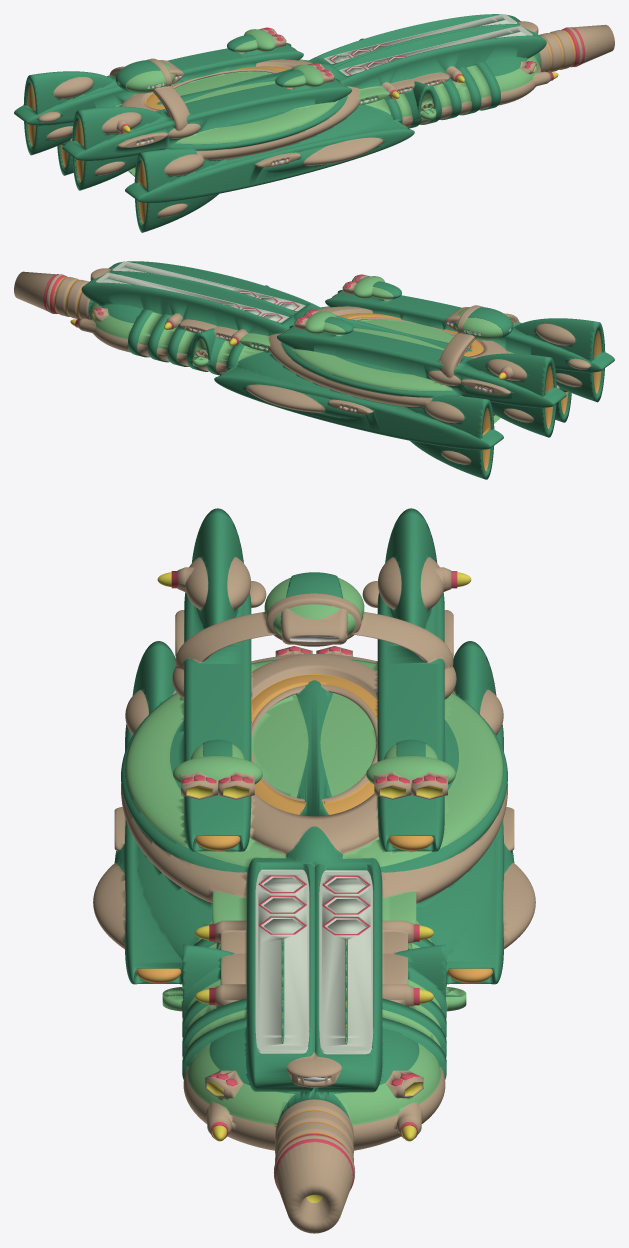
Rendered from kre-boss.glb.
3 views of the same model, one above another, from view 1: azimuth 30°, elevation 25°; view 2: azimuth 150°, elevation 25°; view 3: azimuth 270°, elevation 25° (orthographic). The views are drawn at different scales.
Visible parts, largest first — view 1: Boss / Game Secret current hull - authored COLOR_0 regions; view 2: Boss / Game Secret current hull - authored COLOR_0 regions; view 3: Boss / Game Secret current hull - authored COLOR_0 regions.
Part boxes in pixels (box(x1,y1,x2,y2)): Boss / Game Secret current hull - authored COLOR_0 regions: box(14, 14, 614, 232); Boss / Game Secret current hull - authored COLOR_0 regions: box(14, 261, 614, 479); Boss / Game Secret current hull - authored COLOR_0 regions: box(93, 508, 535, 1233).
Size of the model in its own units: 9.69 by 2.12 by 3.3.
